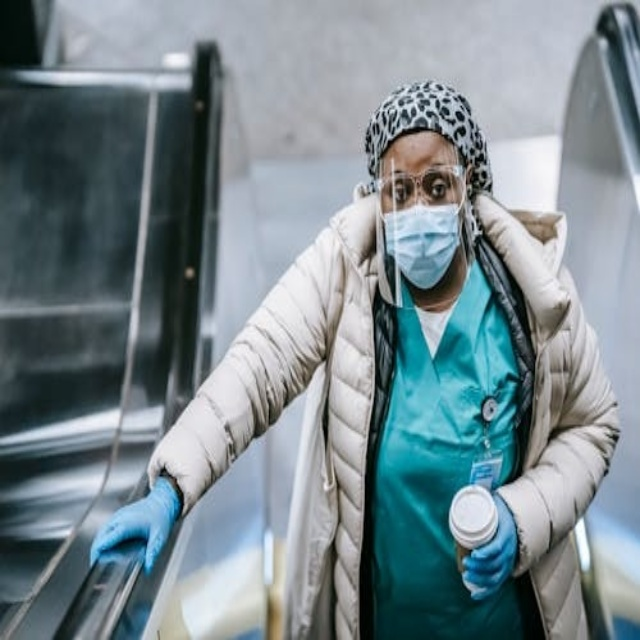Gafas: (376, 163, 467, 207)
Guantes: (90, 476, 181, 577), (460, 492, 519, 602)
Mascara: (382, 183, 464, 288)
